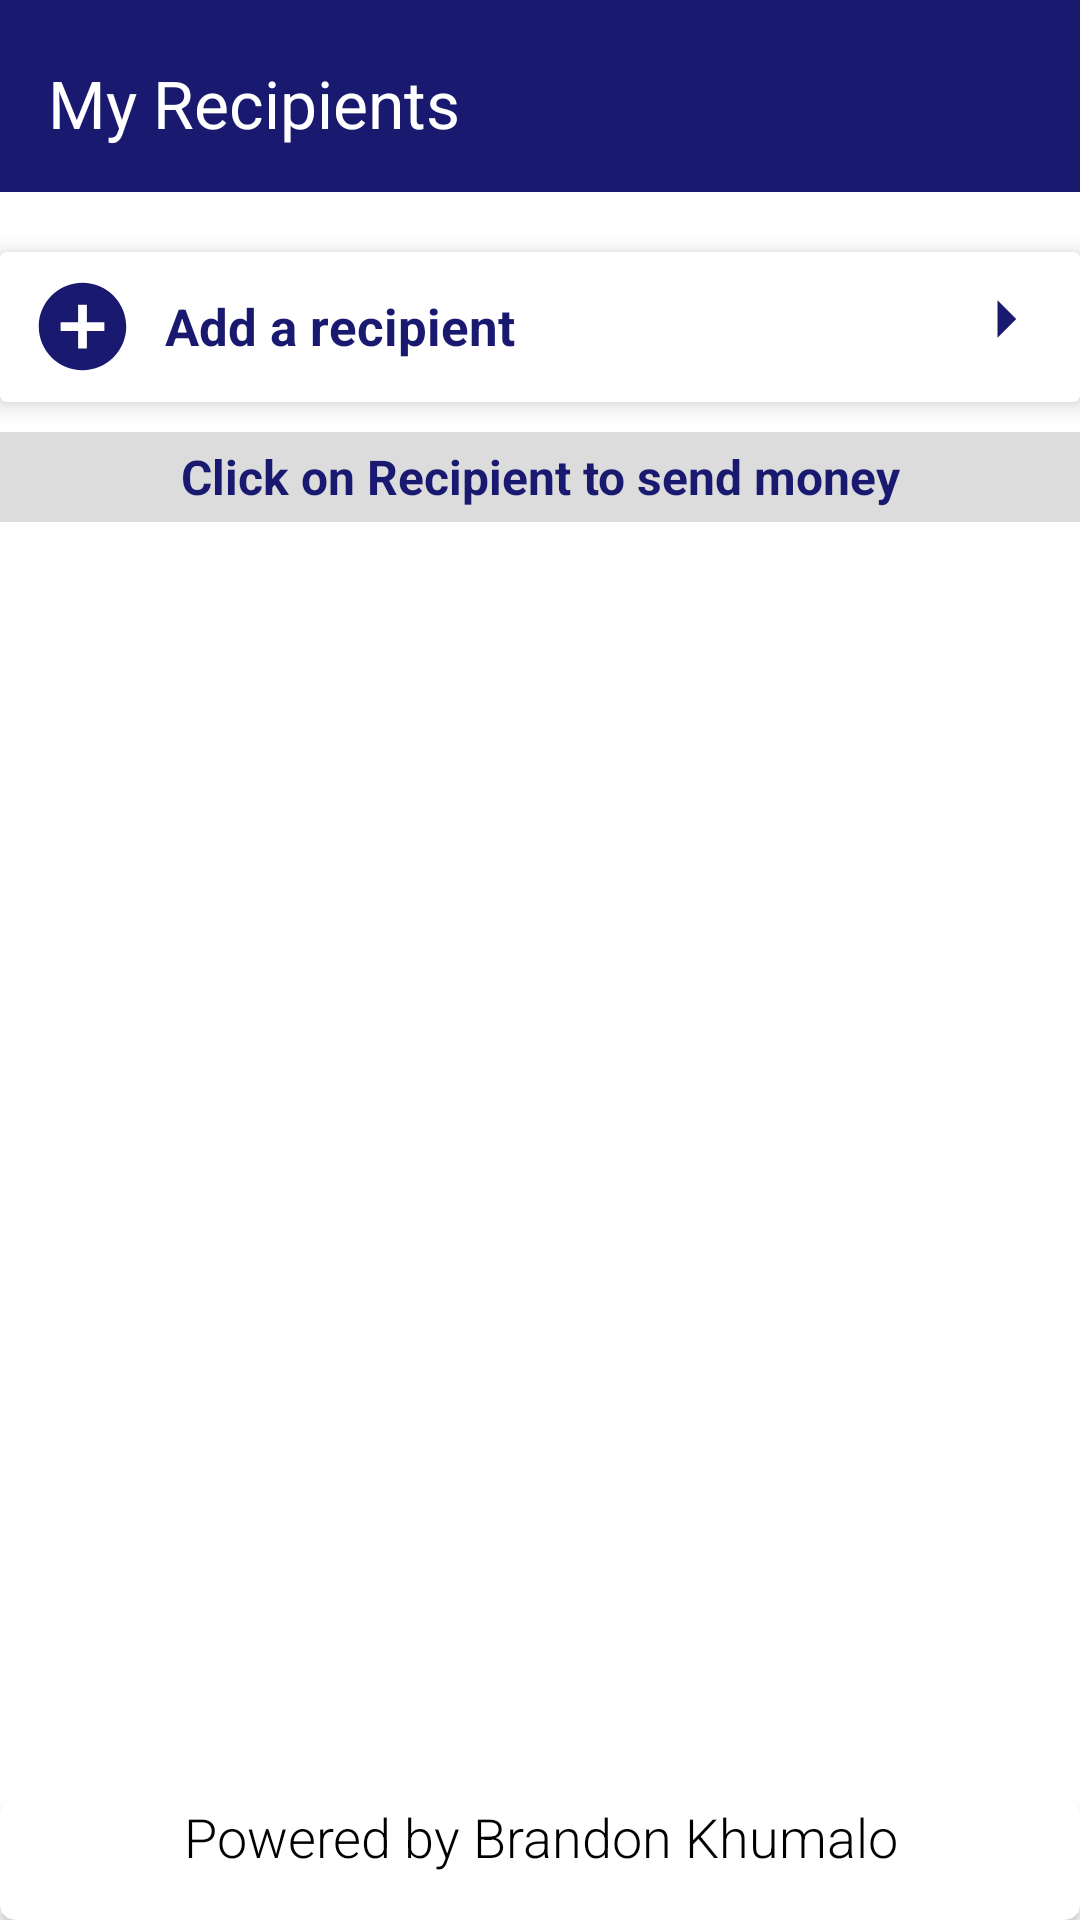

Where icons sit on this 1080px x 1920px app screen, as (x1, y1, x2, y2):
rec right: (997, 300, 1016, 338)
